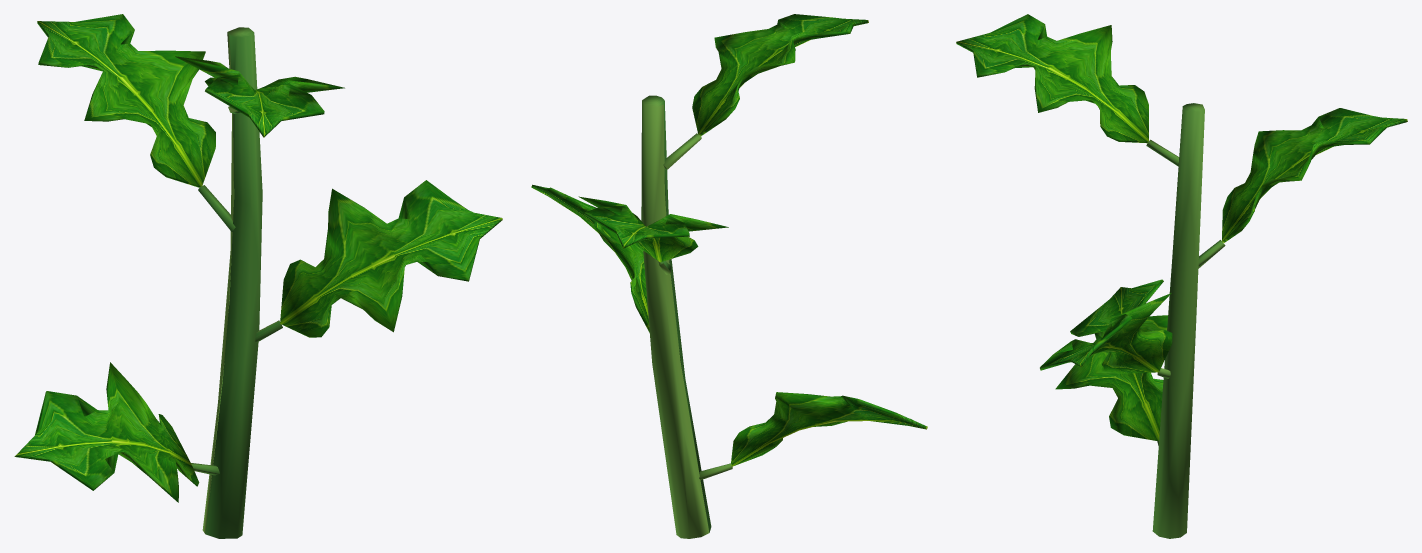
File: NP_Chrysanthemum_Young_LOD1.fbx
3 renders of one model, left to right at view 1: azimuth 30°, elevation 25°; view 2: azimuth 150°, elevation 25°; view 3: azimuth 270°, elevation 25°, orthographic. The views are drawn at different scales.
Visible parts, largest first — view 1: NP_Chrysanthemum_Young; view 2: NP_Chrysanthemum_Young; view 3: NP_Chrysanthemum_Young.
Part boxes in pixels (x1,y1,x2,y2): NP_Chrysanthemum_Young: (14,14,502,538); NP_Chrysanthemum_Young: (531,14,927,538); NP_Chrysanthemum_Young: (956,14,1407,538).
Bounding box in the file's own units: 24.19 × 26.21 × 22.57.
